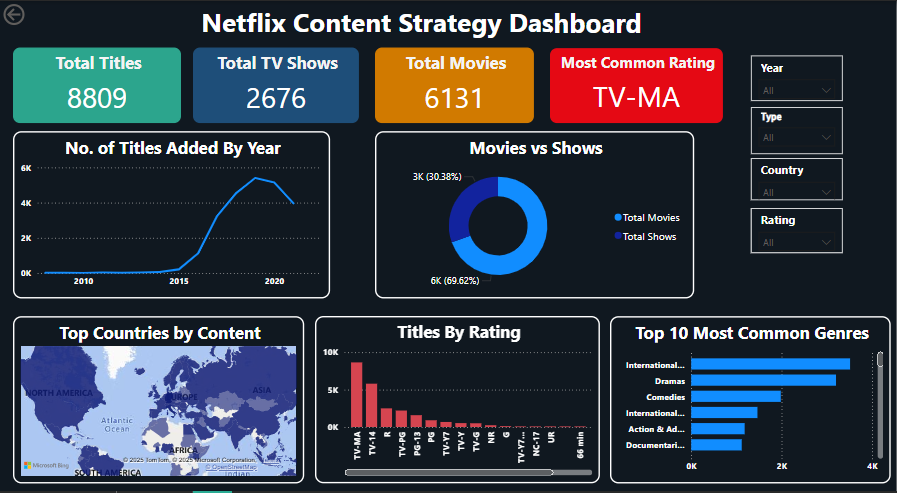

Layout of this report page (visuals, bound fields, positions):
{"tool":"powerbi","page":{"name":"Page 1","canvas":[1280,720],"ordinal":0},"visuals":[{"type":"card","title":"Total Titles","fields":{"Values":["Count(netflix_titles.show_id)"]},"box":[18.6,67.1,240,107.1],"z":0},{"type":"card","title":"Most Common Rating ","fields":{"Values":["netflix_titles.Most Common Rating"]},"box":[785.7,67.1,247.1,107.1],"z":1000},{"type":"card","title":"Total TV Shows","fields":{"Values":["netflix_titles.Total Shows"]},"box":[275.7,67.1,237.1,107.1],"z":2000},{"type":"card","title":"Total Movies","fields":{"Values":["netflix_titles.Total Movies"]},"box":[535.7,67.1,227.1,107.1],"z":3000},{"type":"lineChart","title":"No. of Titles Added By Year","fields":{"Category":["netflix_titles.yera added"],"Y":["CountNonNull(netflix_titles.show_id)"]},"box":[18.6,185.7,452.9,238.6],"z":4000},{"type":"donutChart","title":"Movies vs Shows","fields":{"Y":["netflix_titles.Total Movies","netflix_titles.Total Shows"]},"box":[535.7,185.7,455.7,238.6],"z":5000},{"type":"barChart","title":"Top 10 Most Common Genres","fields":{"Category":["netflix_titles.listed_in"],"Y":["CountNonNull(netflix_titles.show_id)"]},"box":[871.4,450,401.4,238.6],"z":6000},{"type":"filledMap","title":"Top Countries by Content","fields":{"Category":["netflix_titles.country"]},"box":[18.6,450,415.7,238.6],"z":7000},{"type":"columnChart","title":"Titles By Rating","fields":{"Category":["netflix_titles.rating"],"Y":["CountNonNull(netflix_titles.show_id)"]},"box":[450,450,407.1,238.6],"z":8000},{"type":"actionButton","box":[0,0,100,40],"z":9000},{"type":"slicer","fields":{"Values":["netflix_titles.year added"]},"box":[1072.9,78.6,131.4,64.3],"z":10000},{"type":"slicer","fields":{"Values":["netflix_titles.type"]},"box":[1072.9,151.4,131.4,67.1],"z":11000},{"type":"slicer","fields":{"Values":["netflix_titles.rating"]},"box":[1072.9,295.7,131.4,64.3],"z":12000},{"type":"slicer","fields":{"Values":["netflix_titles.country"]},"box":[1072.9,224.3,131.4,60],"z":13000},{"type":"textbox","box":[275.7,0,652.9,67.1],"z":14000}]}

Visuals, with their boxes in screenshot pixels (x1, y1, x2, y2), scaled from the page's 1280x720 canvas onto the 897x493 screenshot:
"Total Titles" card: detection(13, 46, 181, 119)
"Most Common Rating " card: detection(551, 46, 724, 119)
"Total TV Shows" card: detection(193, 46, 359, 119)
"Total Movies" card: detection(375, 46, 535, 119)
"No. of Titles Added By Year" lineChart: detection(13, 127, 330, 291)
"Movies vs Shows" donutChart: detection(375, 127, 695, 291)
"Top 10 Most Common Genres" barChart: detection(611, 308, 892, 471)
"Top Countries by Content" filledMap: detection(13, 308, 304, 471)
"Titles By Rating" columnChart: detection(315, 308, 601, 471)
actionButton: detection(0, 0, 70, 27)
slicer - netflix_titles.year added: detection(752, 54, 844, 98)
slicer - netflix_titles.type: detection(752, 104, 844, 150)
slicer - netflix_titles.rating: detection(752, 202, 844, 246)
slicer - netflix_titles.country: detection(752, 154, 844, 195)
textbox: detection(193, 0, 651, 46)
